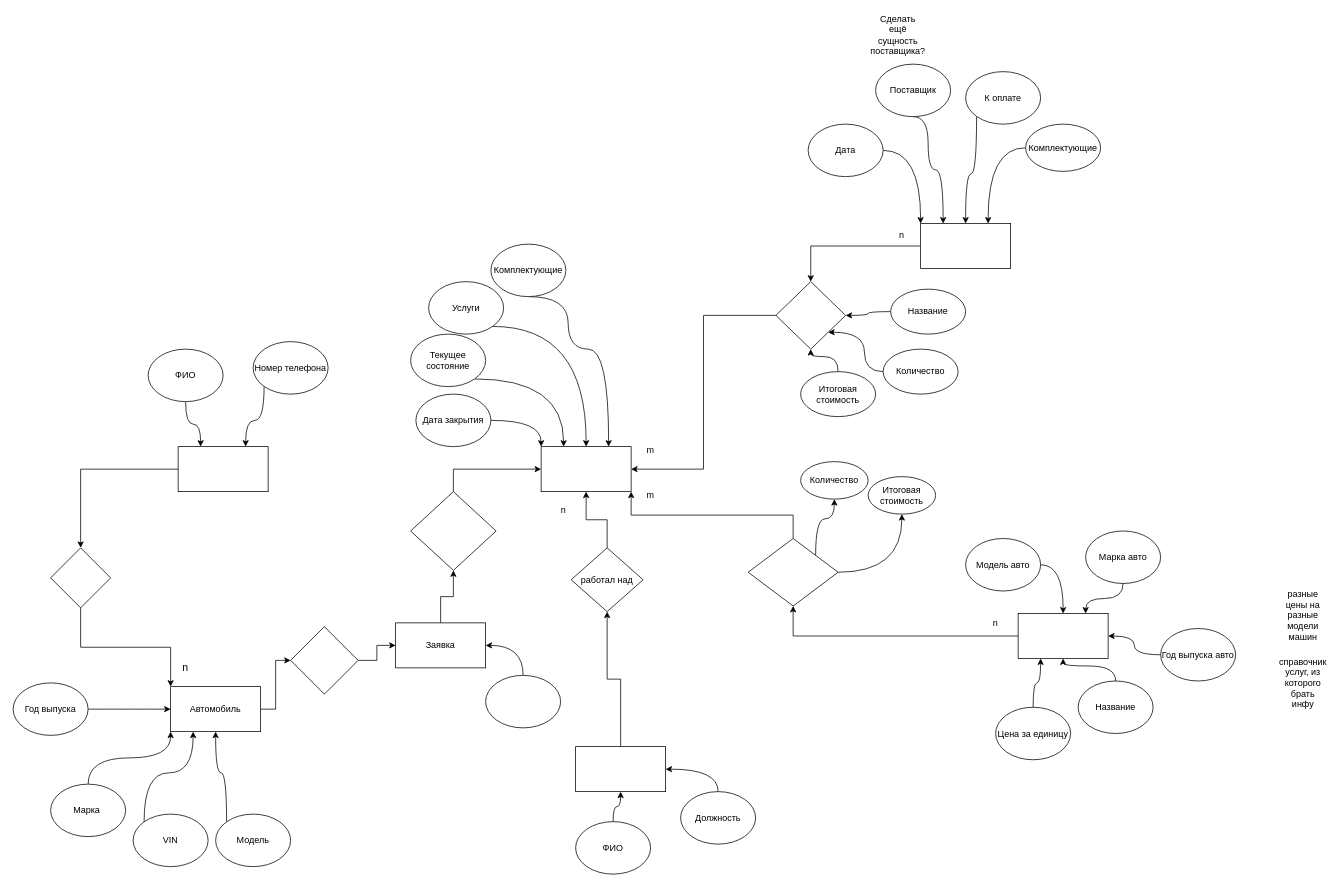
This 1340x887 diagram has some shape labels left out. The shapes that lost their labels are listed below. From the top down, each one's box as (x1, y1, x2, y2) in pixels, then its label:
(920, 223, 1011, 268): Договор закупки комплектующих
(775, 281, 846, 349): обеспечивает
(177, 446, 268, 492): Клиент
(540, 446, 631, 492): Заказ-наряд
(410, 491, 496, 570): превращается в
(50, 547, 111, 608): передаёт
(747, 538, 838, 606): формируется на основе
(1017, 613, 1108, 658): Каталог услуг
(290, 626, 358, 694): указывается в
(485, 675, 561, 728): Дата оформления заявки
(575, 746, 666, 792): Персонал
